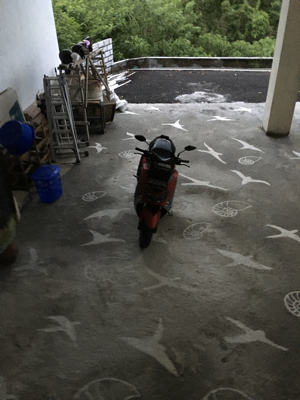moto: (129, 129, 191, 249)
